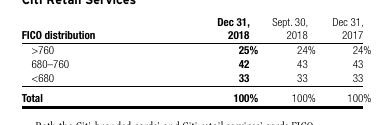table: (0, 0, 392, 125)
